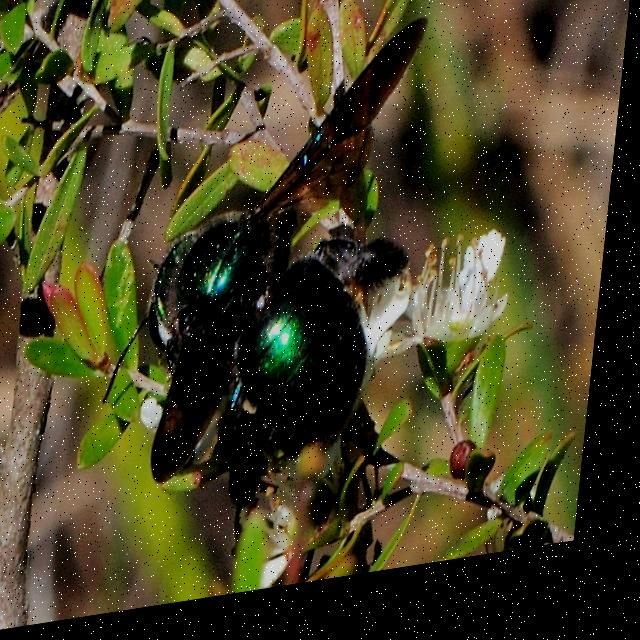Xylocopa: (91, 23, 456, 584)
